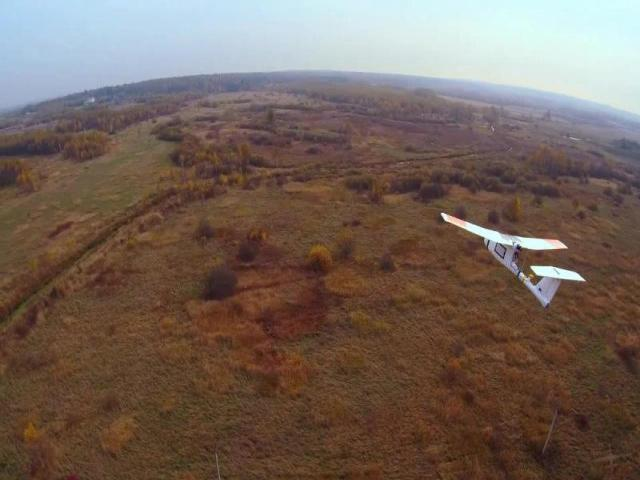hedef: (440, 198, 584, 312)
